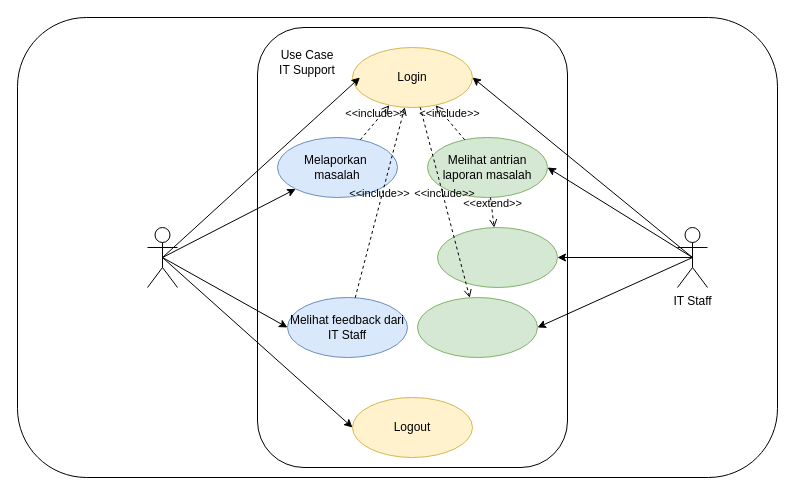
Image size: 795x495. Some labels were removed from this diagram. Here are the shapes that lost their labels. From the top down, the centre of each, then its label:
At [162,257]: "Pegawai".
At [497,257]: "Memberi feedback dari masalah".
At [477,327]: "Mengatur tag dari tiket keluhan".
